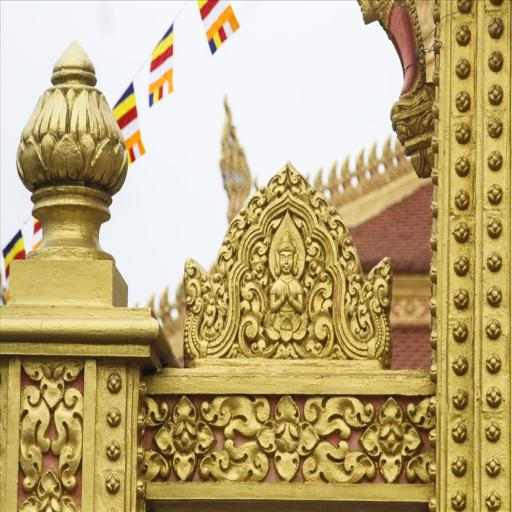hoa: (256, 392, 319, 486), (154, 396, 218, 480), (361, 397, 423, 480), (21, 357, 86, 397), (22, 470, 80, 512)
la: (305, 438, 376, 486), (201, 440, 269, 483), (201, 394, 269, 437), (20, 384, 48, 488), (54, 382, 84, 479), (306, 397, 374, 434), (267, 162, 310, 202), (307, 315, 339, 355), (239, 313, 267, 356), (308, 270, 336, 313), (406, 397, 438, 430), (240, 272, 264, 314), (141, 445, 167, 483), (337, 232, 361, 272), (303, 236, 329, 272), (406, 452, 436, 482), (244, 188, 267, 224), (222, 214, 245, 249), (142, 395, 169, 424), (249, 231, 266, 273), (216, 242, 234, 279), (328, 201, 346, 235), (311, 190, 327, 221)
lua: (352, 142, 373, 188), (158, 283, 177, 328), (171, 273, 188, 322), (378, 132, 398, 173), (363, 138, 384, 177), (324, 157, 342, 201), (337, 151, 357, 190), (142, 289, 162, 324), (392, 132, 412, 166), (309, 163, 326, 195)
ran: (350, 0, 437, 178), (212, 88, 251, 214), (360, 255, 405, 363), (180, 250, 209, 362)
than: (265, 228, 308, 338)
